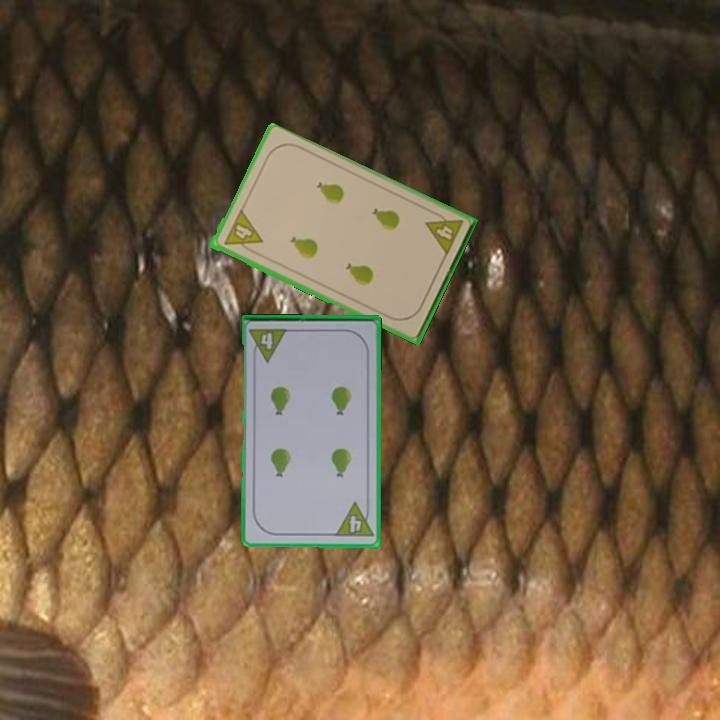4p: (421, 207, 466, 259), (220, 207, 265, 257), (332, 499, 376, 540), (246, 325, 290, 364)
